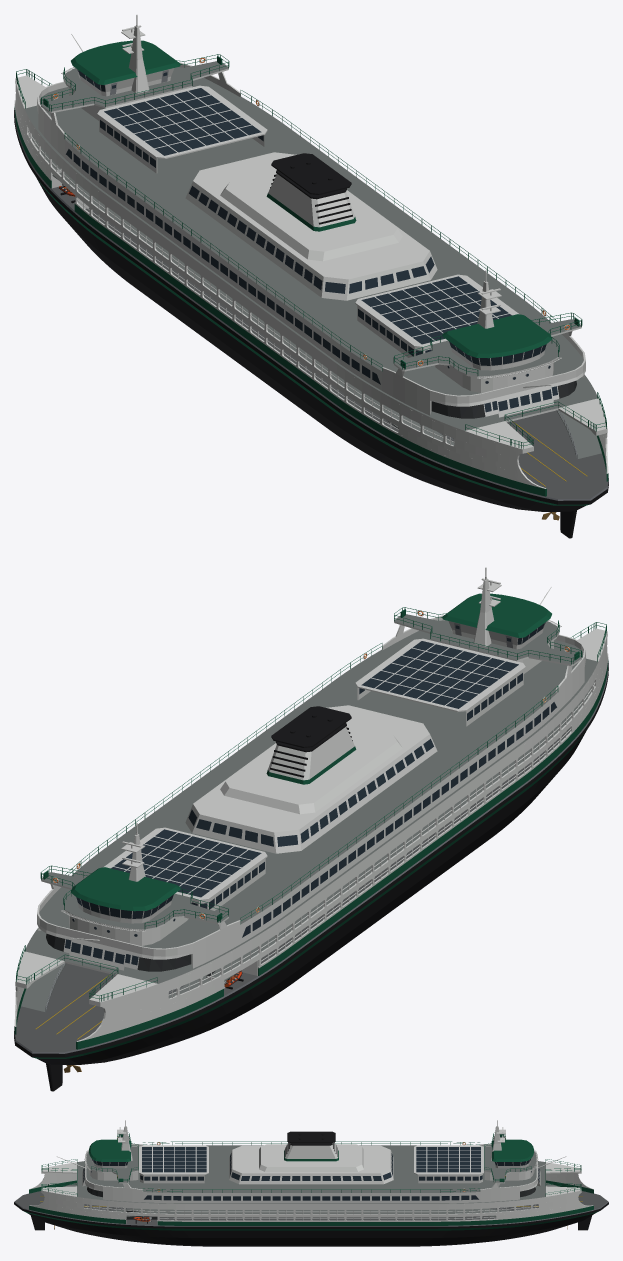
Rendered from jumbo_mk_ii.glb.
3 views of the same model, one above another, from view 1: azimuth 30°, elevation 25°; view 2: azimuth 150°, elevation 25°; view 3: azimuth 270°, elevation 25° (orthographic). The views are drawn at different scales.
Visible parts, largest first — view 1: fixed, glass, window, thinshadow; view 2: fixed, glass, window, thinshadow; view 3: fixed, glass, window, thinshadow.
Boxes of the visible parts, x1,y1,x2,y2 form: fixed: (14, 14, 608, 538); glass: (77, 69, 557, 412); window: (66, 120, 551, 411); thinshadow: (16, 55, 606, 459); fixed: (14, 567, 608, 1091); glass: (65, 622, 545, 965); window: (71, 673, 556, 964); thinshadow: (16, 608, 606, 1012); fixed: (14, 1120, 608, 1246); glass: (92, 1147, 530, 1172); window: (83, 1153, 539, 1200); thinshadow: (41, 1134, 581, 1210).
Size of the model in its own units: 30.94 by 32.15 by 158.
